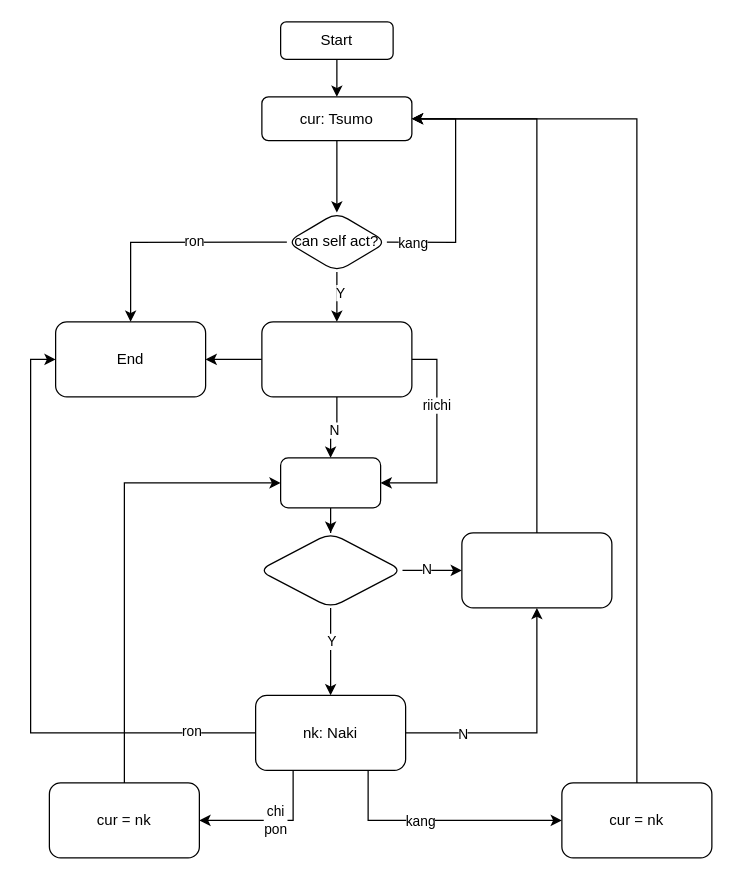
Image size: 734x880. Some labels were removed from this diagram. Each missing label, with the centre of its shape:
can someone act?: (330,570)
cur = next(cur): (536,570)
cur: act: (336,359)
cur: Dahai: (330,482)
